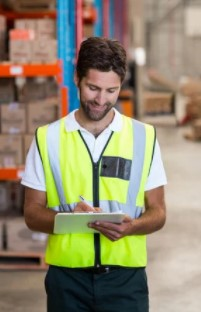worker: (42, 42, 149, 268)
